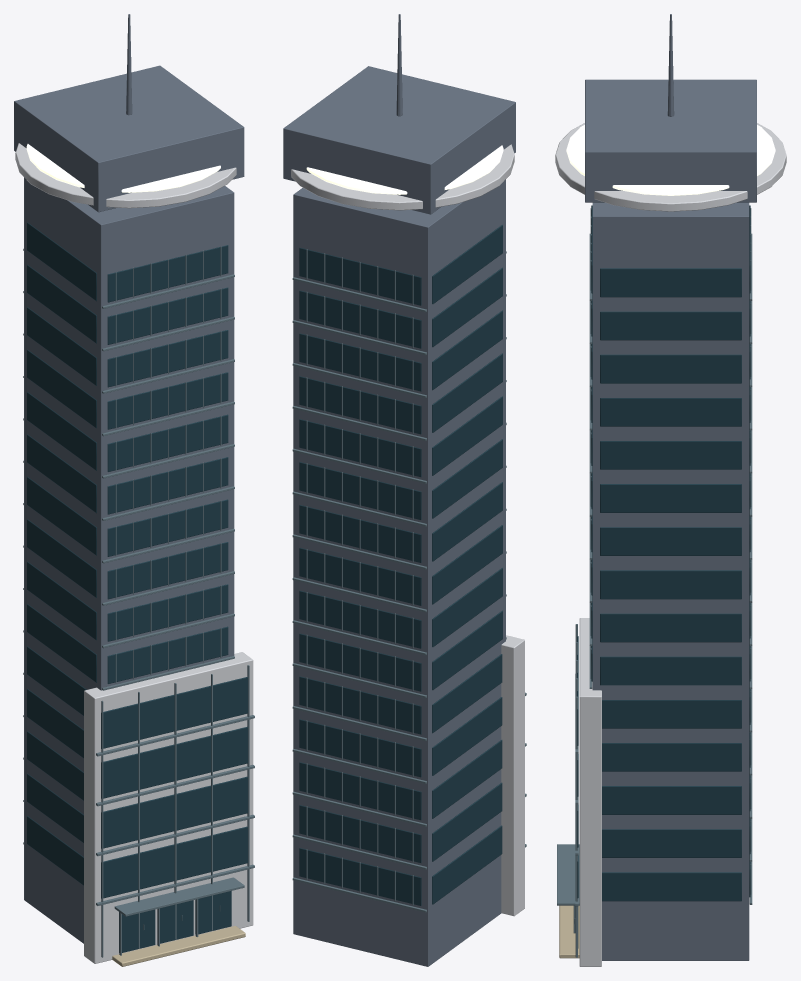
The model's file is sky_tower.glb.
3 views of the same model, side by side, from view 1: azimuth 30°, elevation 25°; view 2: azimuth 150°, elevation 25°; view 3: azimuth 270°, elevation 25° (orthographic).
Visible parts, largest first — view 1: Detail.sky_tower.Detail.Glass, Detail.sky_tower.Shaft, Detail.sky_tower.Deck, Detail.sky_tower.Detail.Metal, Detail.sky_tower.Detail.Stone, Detail.sky_tower.Light; view 2: Detail.sky_tower.Shaft, Detail.sky_tower.Detail.Glass, Detail.sky_tower.Detail.Metal, Detail.sky_tower.Deck, Detail.sky_tower.Light; view 3: Detail.sky_tower.Shaft, Detail.sky_tower.Detail.Glass, Detail.sky_tower.Deck, Detail.sky_tower.Detail.Metal, Detail.sky_tower.Light, Detail.sky_tower.Detail.Stone.
Boxes of the visible parts, x1,y1,x2,y2 form: Detail.sky_tower.Detail.Glass: (27, 222, 247, 952); Detail.sky_tower.Shaft: (14, 14, 244, 943); Detail.sky_tower.Deck: (15, 143, 253, 963); Detail.sky_tower.Detail.Metal: (23, 246, 254, 957); Detail.sky_tower.Detail.Stone: (112, 926, 245, 966); Detail.sky_tower.Light: (26, 144, 220, 192); Detail.sky_tower.Shaft: (283, 14, 515, 966); Detail.sky_tower.Detail.Glass: (299, 224, 502, 905); Detail.sky_tower.Detail.Metal: (292, 249, 526, 912); Detail.sky_tower.Deck: (291, 144, 524, 916); Detail.sky_tower.Light: (306, 145, 503, 194); Detail.sky_tower.Shaft: (585, 14, 756, 960); Detail.sky_tower.Detail.Glass: (577, 205, 750, 948); Detail.sky_tower.Deck: (555, 123, 786, 966); Detail.sky_tower.Detail.Metal: (557, 208, 752, 957); Detail.sky_tower.Light: (566, 125, 775, 195); Detail.sky_tower.Detail.Stone: (559, 905, 579, 958).
Size of the model in its own units: 12.4 by 54 by 12.4.
